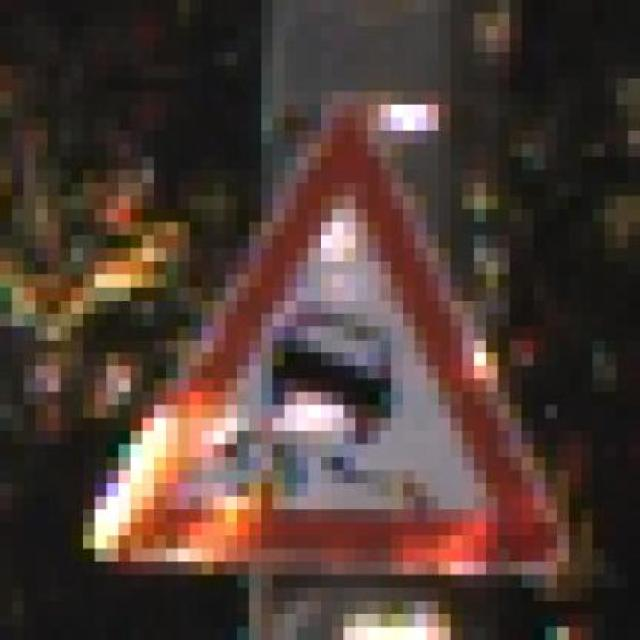Slippery Road Ahead: (59, 103, 581, 574)
